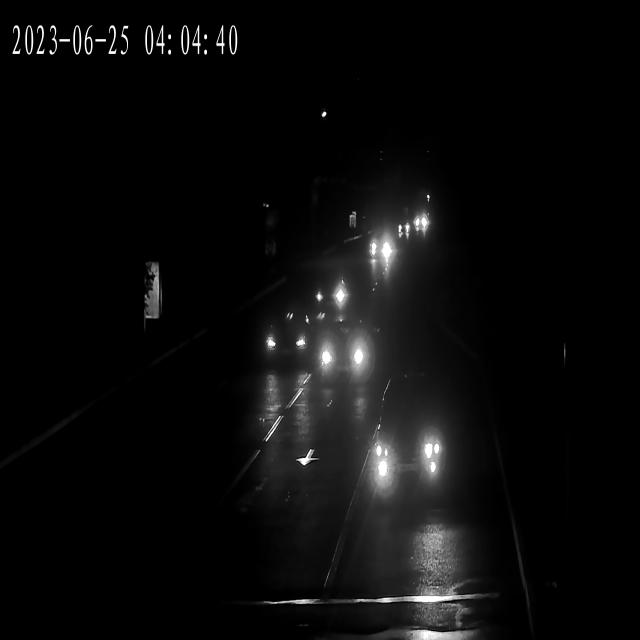Car: (359, 399, 450, 506), (311, 324, 373, 382), (260, 314, 312, 367), (314, 273, 355, 314), (364, 233, 392, 261), (410, 216, 429, 233), (393, 222, 409, 235)
